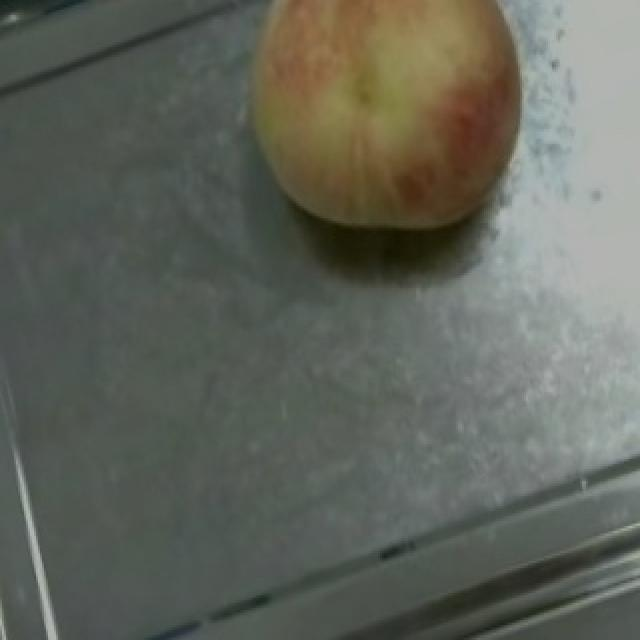Fruit: (204, 0, 530, 280)
